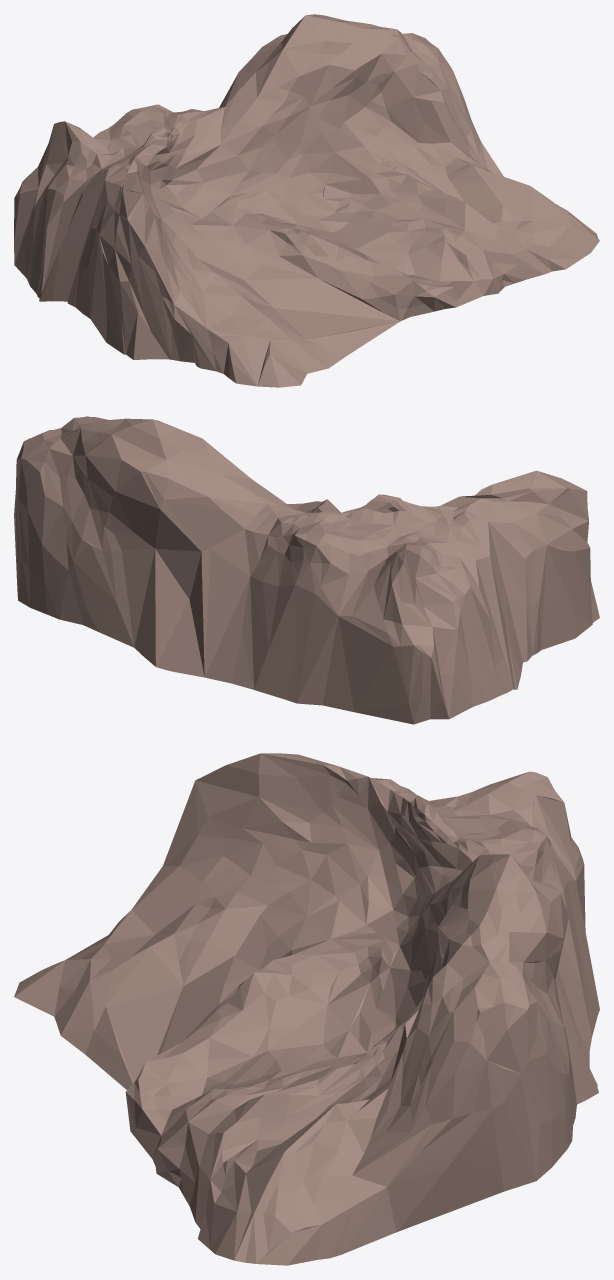
Rendered from mountain.008.fbx.
3 views of the same model, one above another, from view 1: azimuth 30°, elevation 25°; view 2: azimuth 150°, elevation 25°; view 3: azimuth 270°, elevation 25° (orthographic). The views are drawn at different scales.
Parts seen in each view (by area): view 1: mountain_008; view 2: mountain_008; view 3: mountain_008.
Boxes of the visible parts, x1,y1,x2,y2 form: mountain_008: (14,14,599,387); mountain_008: (14,416,599,724); mountain_008: (14,753,599,1265).
Size of the model in its own units: 35203 by 14088 by 26128.
